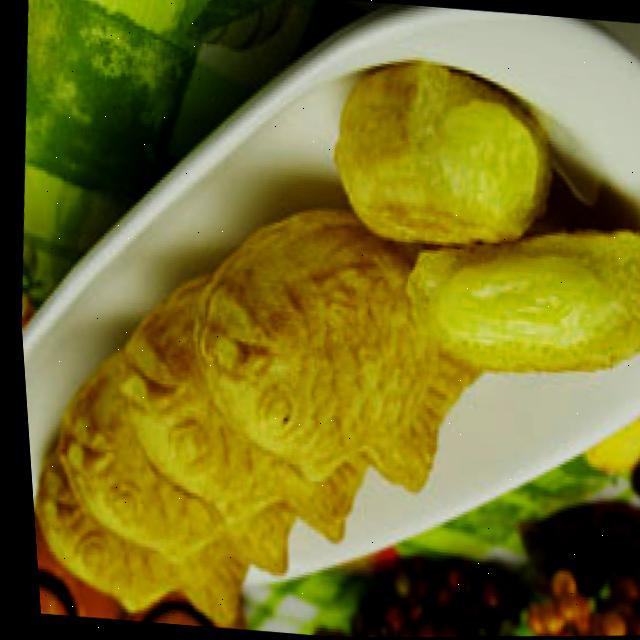熟制海鲜: (9, 177, 539, 640)
